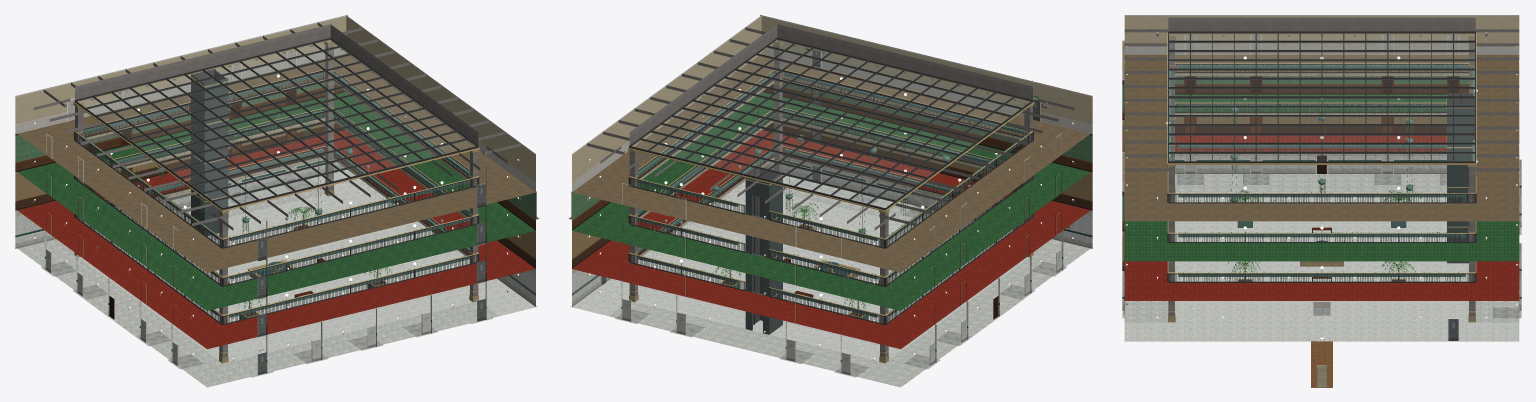
File: atrium.glb
The picture shows the model from 3 angles, left to right: view 1: azimuth 30°, elevation 25°; view 2: azimuth 150°, elevation 25°; view 3: azimuth 270°, elevation 25°; orthographic projection. The views are drawn at different scales.
Visible parts, largest first — view 1: Iron_Black, Glass_Skylight, Carpet_Apart, Carpet_Green, Carpet_Motel, Floor_Tile.001, Wall_Apart, Floor_Tile_Damp.001, Ceiling_Plaster, Planter, Brass, Shaft_Steel (+12 smaller); view 2: Iron_Black, Glass_Skylight, Carpet_Apart, Carpet_Green, Carpet_Motel, Floor_Tile.001, Wall_Apart, Floor_Tile_Damp.001, Ceiling_Plaster, Planter, Wall_Green, Brass (+11 smaller); view 3: Glass_Skylight, Floor_Tile.001, Iron_Black, Carpet_Apart, Carpet_Green, Carpet_Motel, Wall_Apart, Ceiling_Plaster, Planter, Floor_Tile_Damp.001, Wall_Sub, Brass (+12 smaller).
Boxes of the visible parts, <box> form: Iron_Black: <box>74,37,479,351</box>; Glass_Skylight: <box>77,39,475,207</box>; Carpet_Apart: <box>17,53,535,272</box>; Carpet_Green: <box>17,92,535,310</box>; Carpet_Motel: <box>17,130,535,349</box>; Floor_Tile.001: <box>78,169,537,361</box>; Wall_Apart: <box>15,15,535,258</box>; Floor_Tile_Damp.001: <box>17,178,499,387</box>; Ceiling_Plaster: <box>33,22,520,230</box>; Planter: <box>80,72,470,319</box>; Brass: <box>33,40,520,361</box>; Shaft_Steel: <box>191,74,228,235</box>; Iron_Black: <box>628,37,1037,325</box>; Glass_Skylight: <box>632,39,1030,207</box>; Carpet_Apart: <box>572,53,1090,272</box>; Carpet_Green: <box>572,92,1090,310</box>; Carpet_Motel: <box>572,130,1090,349</box>; Floor_Tile.001: <box>570,175,1029,361</box>; Wall_Apart: <box>572,15,1092,191</box>; Floor_Tile_Damp.001: <box>608,178,1090,387</box>; Ceiling_Plaster: <box>587,22,1074,230</box>; Planter: <box>637,72,1027,319</box>; Wall_Green: <box>572,82,1092,230</box>; Brass: <box>587,40,1074,361</box>; Glass_Skylight: <box>1169,33,1474,160</box>; Floor_Tile.001: <box>1124,192,1519,341</box>; Iron_Black: <box>1124,31,1476,282</box>; Carpet_Apart: <box>1124,54,1519,221</box>; Carpet_Green: <box>1124,94,1519,261</box>; Carpet_Motel: <box>1124,135,1519,300</box>; Wall_Apart: <box>1122,15,1519,191</box>; Ceiling_Plaster: <box>1124,17,1519,171</box>; Planter: <box>1169,65,1474,276</box>; Floor_Tile_Damp.001: <box>1122,174,1521,322</box>; Wall_Sub: <box>1122,155,1521,315</box>; Brass: <box>1124,33,1519,337</box>.
Bounding box in the file's own units: 46.4 × 17.6 × 36.4.
Materials: 34 (22 with a texture image).
